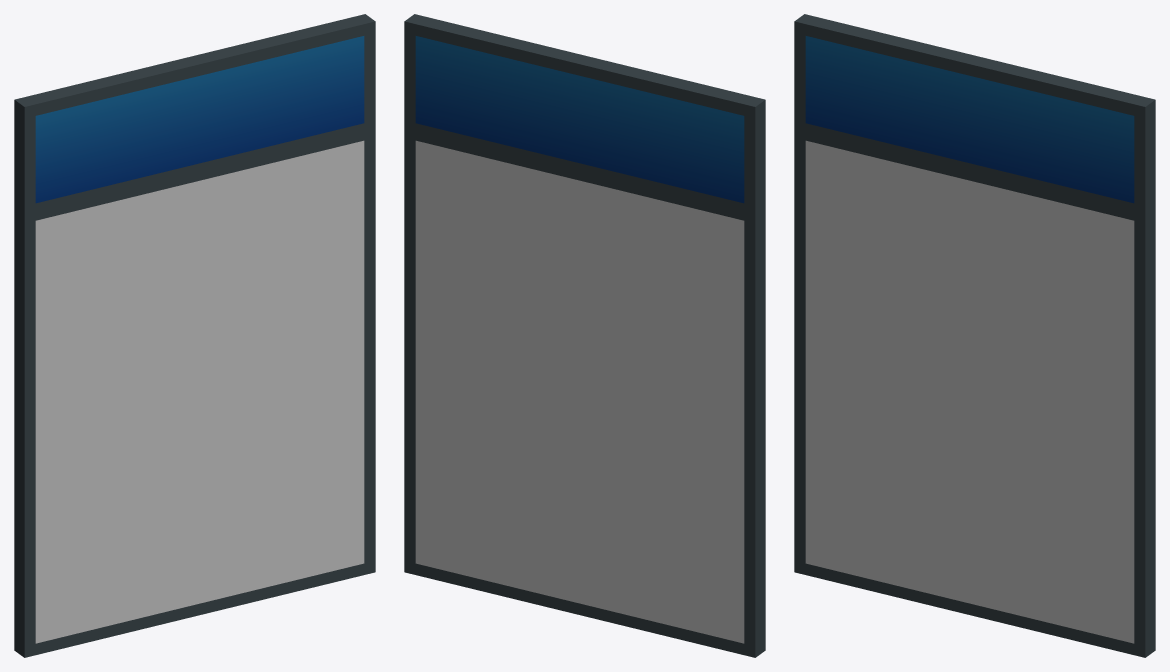
The model's file is CubicleWallV2SmallLight.fbx.
The picture shows the model from 3 angles, left to right: view 1: azimuth 30°, elevation 25°; view 2: azimuth 150°, elevation 25°; view 3: azimuth 330°, elevation 25°; orthographic projection.
Visible parts, largest first — view 1: CubicleWallV2SmallLight; view 2: CubicleWallV2SmallLight; view 3: CubicleWallV2SmallLight.
Part boxes in pixels (x1,y1,x2,y2): CubicleWallV2SmallLight: (14, 14, 375, 657); CubicleWallV2SmallLight: (404, 14, 765, 657); CubicleWallV2SmallLight: (794, 14, 1155, 657).
Size of the model in its own units: 100 by 150 by 5.
